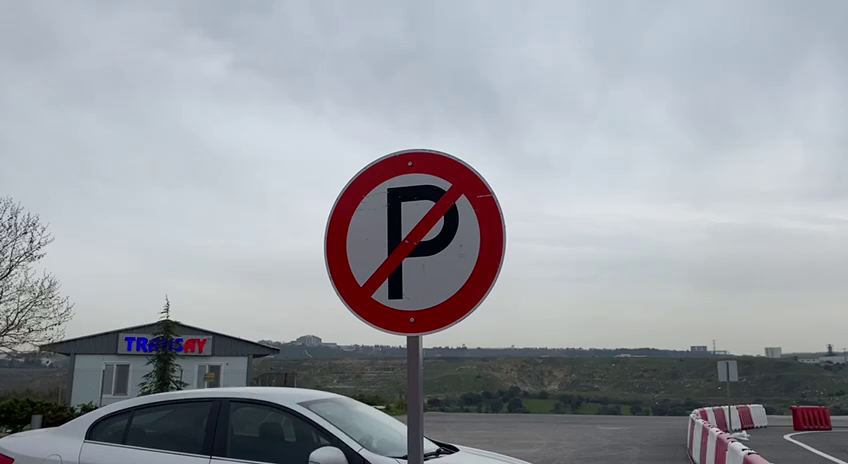noparking: (318, 143, 511, 339)
